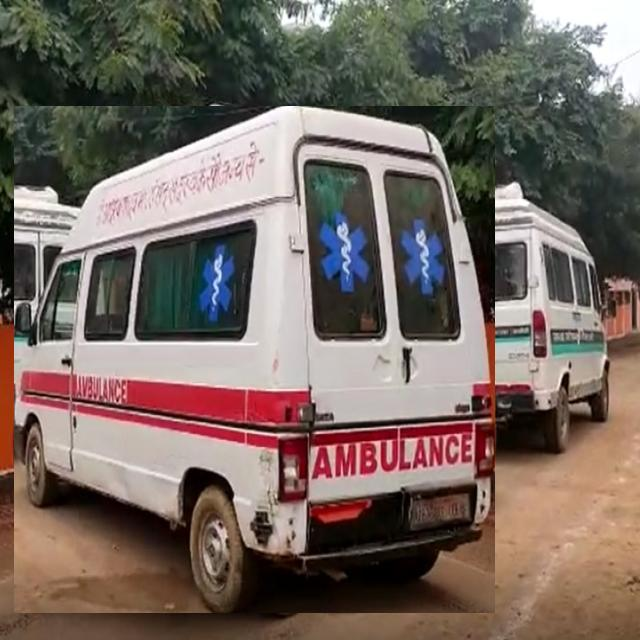emergency: (14, 107, 495, 613), (430, 183, 615, 452)
